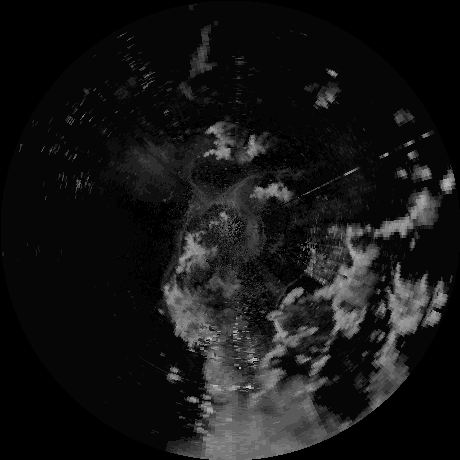frontgust: (167, 212, 192, 277), (235, 167, 301, 191)
